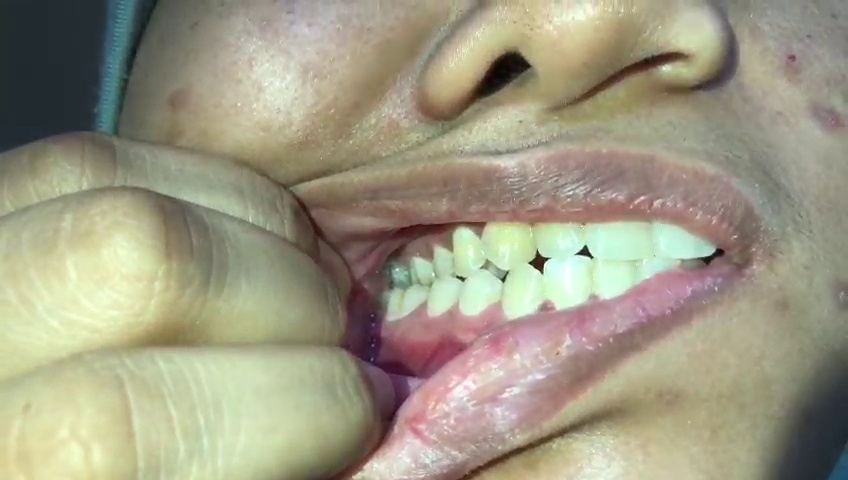1st Molar: (402, 285, 427, 319), (413, 256, 433, 287)
1st Premolar: (459, 270, 503, 321), (453, 227, 487, 276)
2nd Molar: (382, 282, 404, 322), (387, 257, 410, 290)
2nd Premolar: (427, 274, 461, 322), (433, 243, 454, 281)
Canine: (480, 219, 538, 271), (502, 263, 544, 323)
Lateral Incisor: (542, 255, 594, 312)
